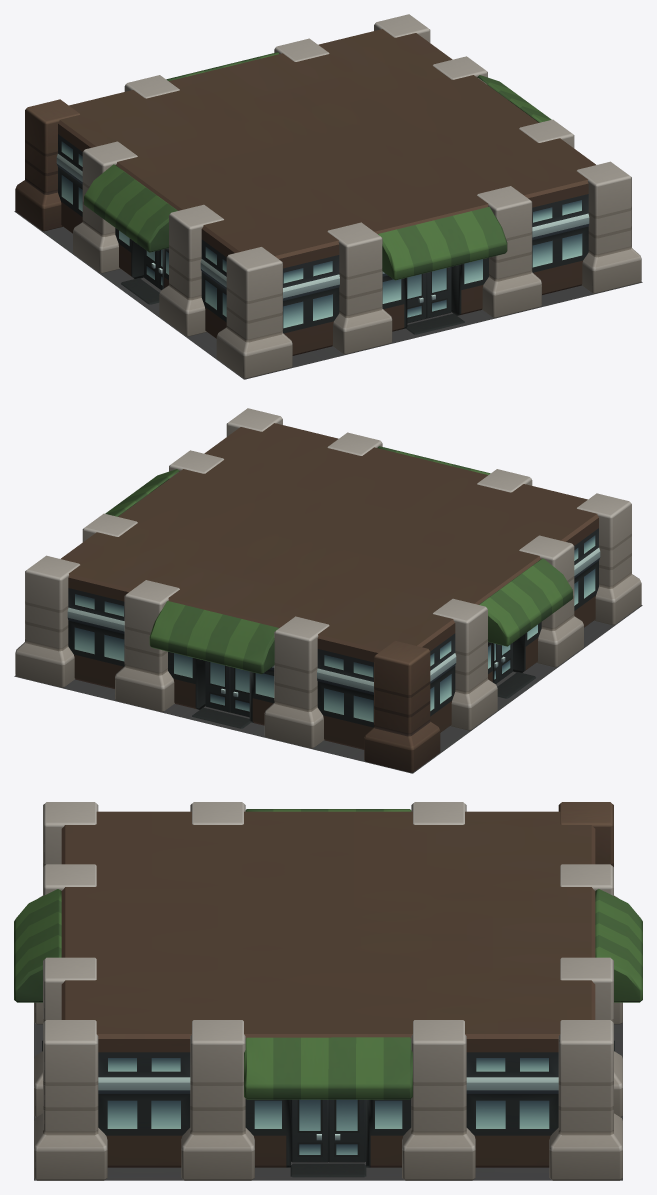
File: office_building_type1_ground_floor_brown.fbx
The picture shows the model from 3 angles, top to bottom: view 1: azimuth 30°, elevation 25°; view 2: azimuth 150°, elevation 25°; view 3: azimuth 270°, elevation 25°; orthographic projection. The views are drawn at different scales.
Parts seen in each view (by area): view 1: office_building_type1_ground_floor_brown, door_front_office_right, door_front_office_left; view 2: office_building_type1_ground_floor_brown, door_back_office_left, door_back_office_right; view 3: office_building_type1_ground_floor_brown, door_rightside_office_left, door_rightside_office_right.
Boxes of the visible parts, bbox=[...] form: office_building_type1_ground_floor_brown: bbox=[14, 14, 642, 379]; door_front_office_right: bbox=[426, 267, 451, 318]; door_front_office_left: bbox=[407, 273, 426, 323]; office_building_type1_ground_floor_brown: bbox=[14, 408, 642, 773]; door_back_office_left: bbox=[205, 661, 230, 712]; door_back_office_right: bbox=[230, 667, 249, 717]; office_building_type1_ground_floor_brown: bbox=[14, 802, 642, 1180]; door_rightside_office_left: bbox=[291, 1099, 328, 1162]; door_rightside_office_right: bbox=[328, 1099, 365, 1162].
Size of the model in its own units: 1708 by 409 by 1708.
